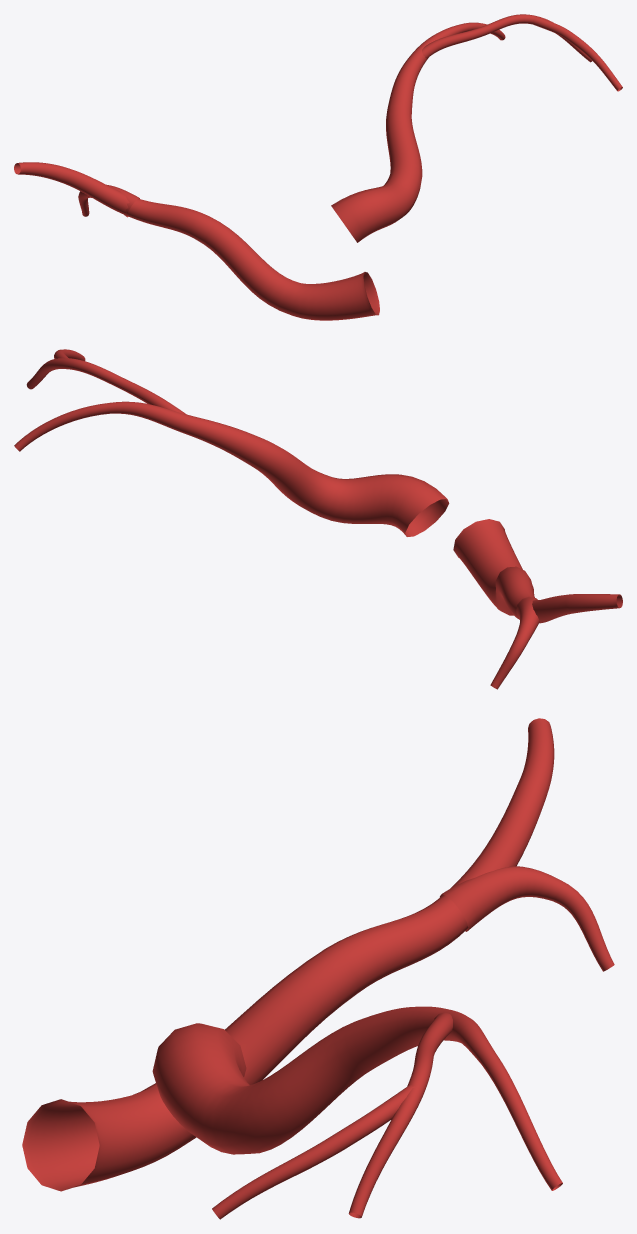
3 renders of one model, top to bottom at view 1: azimuth 30°, elevation 25°; view 2: azimuth 150°, elevation 25°; view 3: azimuth 270°, elevation 25°, orthographic. The views are drawn at different scales.
Parts seen in each view (by area): view 1: 左侧膝中动脉; view 2: 左侧膝中动脉; view 3: 左侧膝中动脉.
Boxes of the visible parts, bbox=[...] form: 左侧膝中动脉: bbox=[14, 14, 622, 320]; 左侧膝中动脉: bbox=[14, 349, 622, 689]; 左侧膝中动脉: bbox=[22, 718, 614, 1219].
Bounding box in the file's own units: 0.0784 × 0.0258 × 0.0378.
